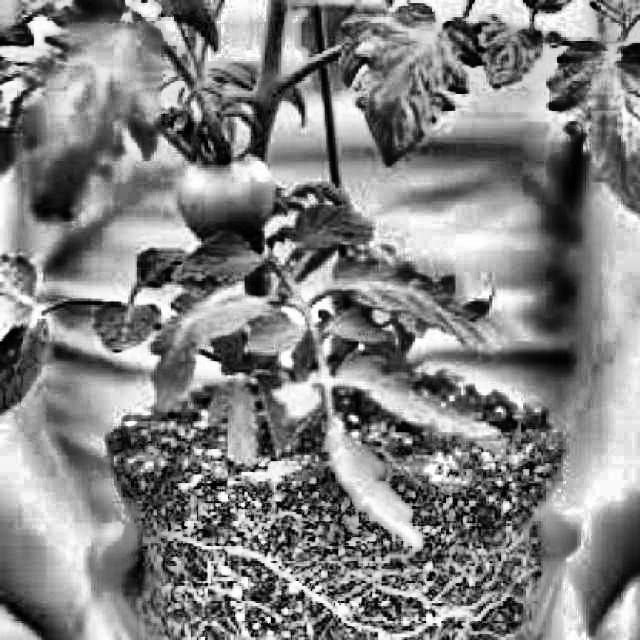plants: (93, 179, 552, 538)
